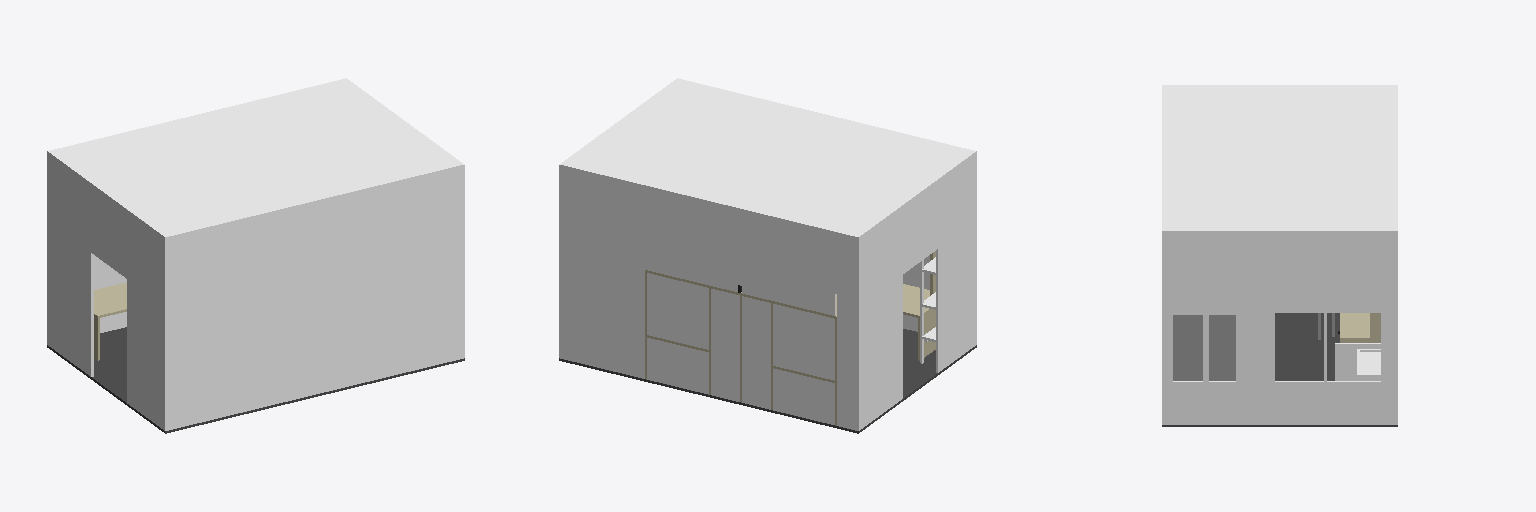
3 views of the same model, side by side, from view 1: azimuth 30°, elevation 25°; view 2: azimuth 150°, elevation 25°; view 3: azimuth 270°, elevation 25° (orthographic).
Parts seen in each view (by area): view 1: dormitory; view 2: dormitory; view 3: dormitory.
Part boxes in pixels (x1,y1,x2,y2): dormitory: (47,78,464,433); dormitory: (559,78,976,433); dormitory: (1162,85,1397,426).
Bounding box in the file's own units: 126 × 79 × 86.
Materials: 1 (1 with a texture image).